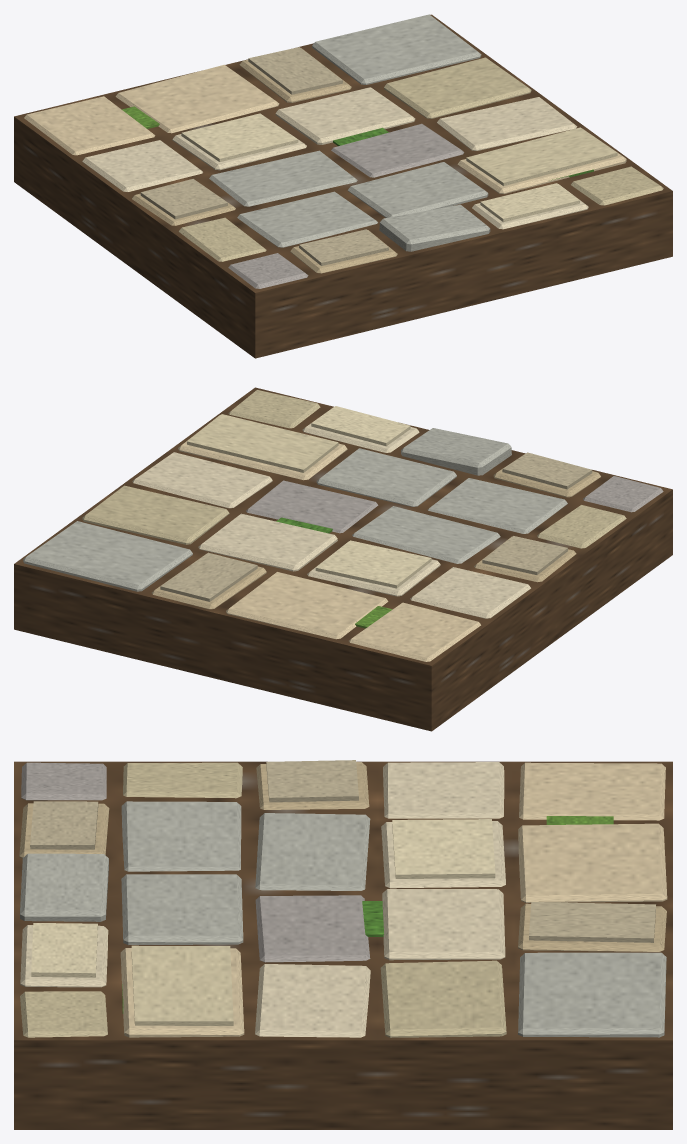
Rendered from Sol_Paves_B.obj.
The picture shows the model from 3 angles, top to bottom: view 1: azimuth 30°, elevation 25°; view 2: azimuth 150°, elevation 25°; view 3: azimuth 270°, elevation 25°; orthographic projection. The views are drawn at different scales.
Visible parts, largest first — view 1: Sol_Paves_B; view 2: Sol_Paves_B; view 3: Sol_Paves_B.
Boxes of the visible parts, x1,y1,x2,y2 form: Sol_Paves_B: (14, 14, 672, 358); Sol_Paves_B: (14, 387, 672, 731); Sol_Paves_B: (14, 760, 672, 1129).
Bounding box in the file's own units: 8 × 1.4 × 8.
Materials: 1 (1 with a texture image).
